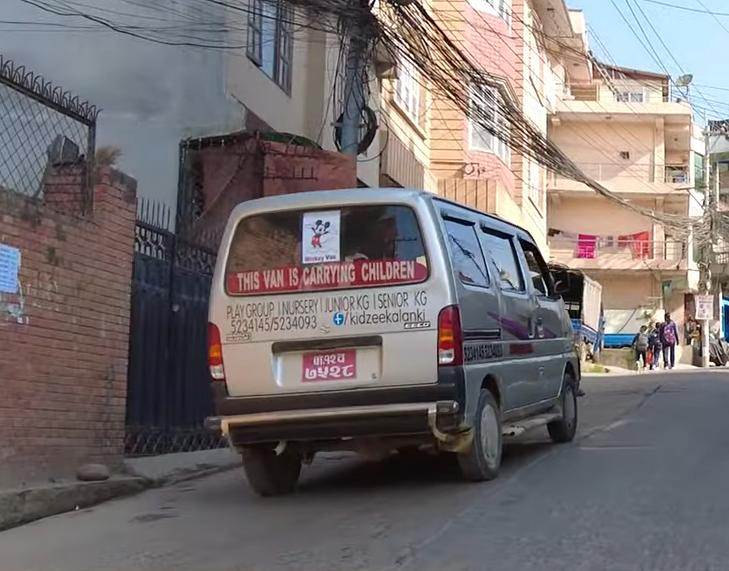van: (200, 189, 593, 484)
